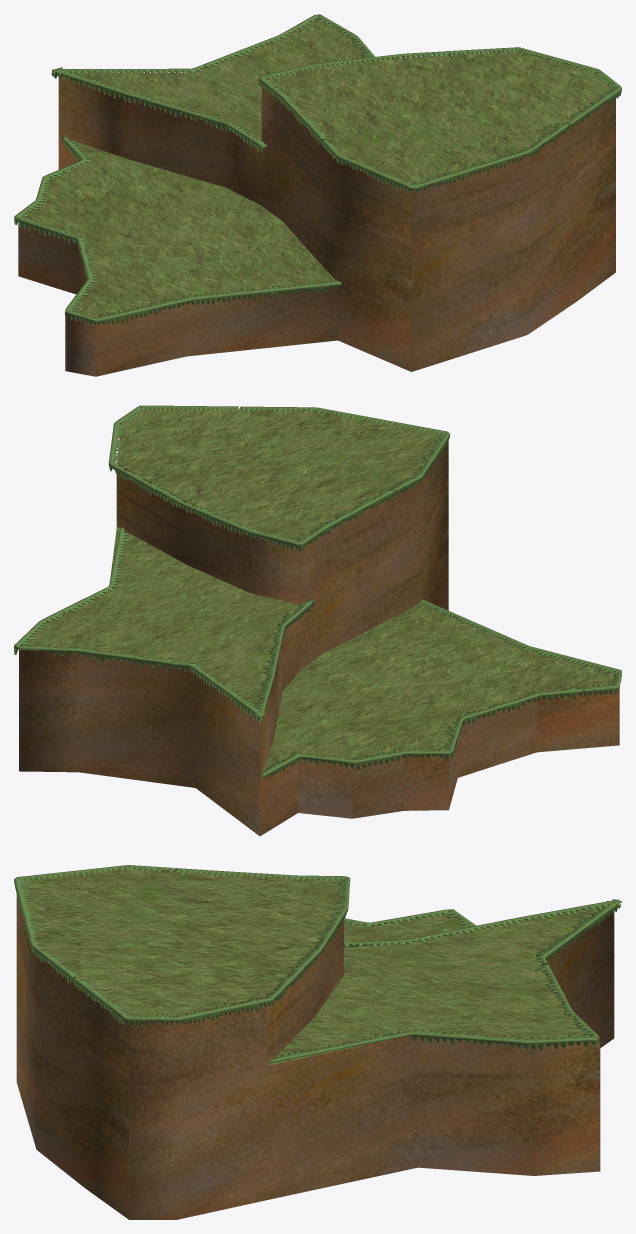
The model's file is Three_levels_01.FBX.
The picture shows the model from 3 angles, top to bottom: view 1: azimuth 30°, elevation 25°; view 2: azimuth 150°, elevation 25°; view 3: azimuth 270°, elevation 25°; orthographic projection. The views are drawn at different scales.
Visible parts, largest first — view 1: Box004, Box005, Box009, Box008, Box007, Box011, Box010, Box006; view 2: Box004, Box007, Box011, Box006, Box005, Box009, Box008, Box010; view 3: Box004, Box006, Box010, Box005, Box009, Box011, Box007.
Boxes of the visible parts, box(x1,y1,x2,y2) form: Box004: box(18, 19, 615, 376); Box005: box(51, 63, 267, 152); Box009: box(321, 123, 569, 192); Box008: box(64, 279, 341, 325); Box007: box(14, 136, 99, 297); Box011: box(258, 51, 457, 144); Box010: box(444, 47, 621, 128); Box006: box(202, 14, 375, 67); Box004: box(19, 408, 619, 836); Box007: box(261, 686, 582, 777); Box011: box(148, 483, 395, 552); Box006: box(14, 526, 177, 671); Box005: box(171, 599, 314, 722); Box009: box(240, 406, 449, 495); Box008: box(418, 599, 621, 696); Box010: box(108, 405, 238, 495); Box004: box(16, 867, 614, 1219); Box006: box(269, 963, 599, 1063); Box010: box(72, 966, 305, 1027); Box005: box(344, 899, 621, 966); Box009: box(14, 865, 174, 983); Box011: box(175, 868, 350, 977); Box007: box(344, 909, 476, 927).
Size of the model in its own units: 10.67 by 3.63 by 9.79.
